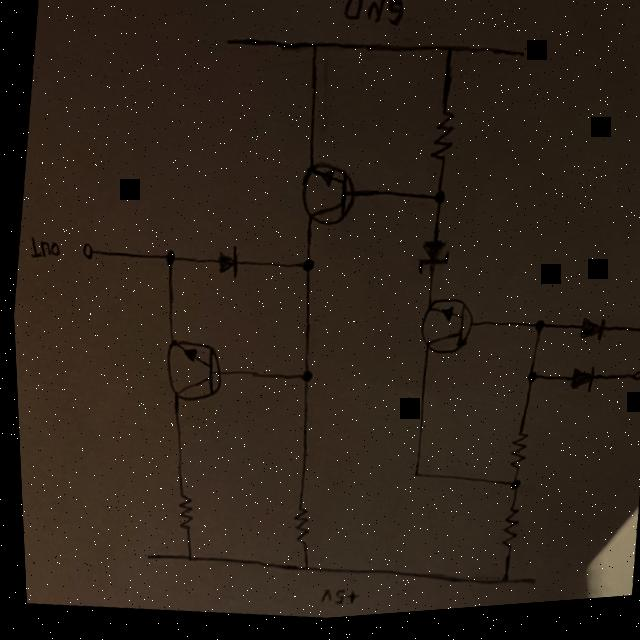diode: (409, 238, 452, 286), (207, 243, 246, 287), (570, 320, 606, 353), (562, 371, 594, 406)
junction: (292, 254, 317, 285), (516, 371, 541, 401), (290, 367, 316, 395), (155, 246, 181, 274), (434, 44, 460, 71), (423, 190, 448, 218), (300, 37, 323, 65), (525, 321, 547, 348), (496, 482, 521, 504), (289, 560, 308, 581), (176, 550, 193, 573), (489, 578, 508, 597), (403, 471, 420, 492)
resistor: (424, 111, 457, 171), (284, 504, 308, 551), (493, 513, 516, 560), (502, 434, 525, 479), (167, 493, 191, 536)
terminal: (71, 239, 100, 269), (503, 50, 532, 76), (215, 33, 242, 57), (131, 549, 154, 570), (514, 579, 536, 600), (621, 375, 640, 396), (629, 327, 640, 350)
text: (335, 0, 410, 40), (20, 227, 65, 268), (307, 583, 358, 618)
transistor: (286, 154, 361, 237), (150, 332, 227, 411), (411, 298, 475, 371)
